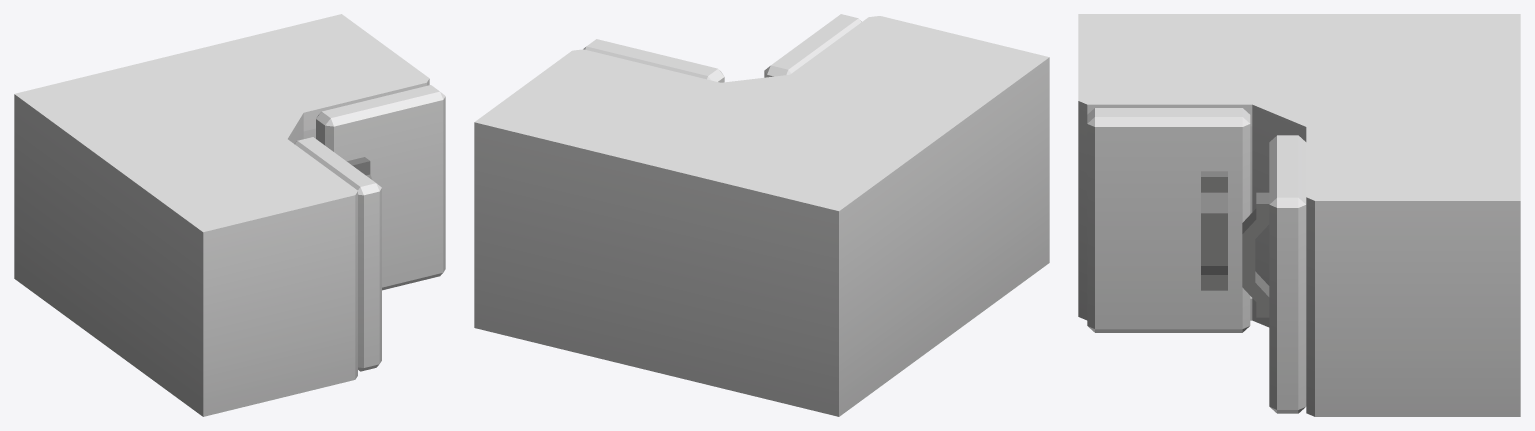
File: Cabinet_01_Corner_C02.fbx
3 views of the same model, side by side, from view 1: azimuth 30°, elevation 25°; view 2: azimuth 150°, elevation 25°; view 3: azimuth 270°, elevation 25° (orthographic). The views are drawn at different scales.
Parts seen in each view (by area): view 1: Cabinet_01_Corner_C02, Cabinet_01_Corner_C02_Door_L, Cabinet_01_Corner_C02_Door_R; view 2: Cabinet_01_Corner_C02, Cabinet_01_Corner_C02_Door_R, Cabinet_01_Corner_C02_Door_L; view 3: Cabinet_01_Corner_C02, Cabinet_01_Corner_C02_Door_R, Cabinet_01_Corner_C02_Door_L.
Part boxes in pixels (x1,y1,x2,y2): Cabinet_01_Corner_C02: (14, 14, 429, 416); Cabinet_01_Corner_C02_Door_L: (316, 85, 445, 290); Cabinet_01_Corner_C02_Door_R: (294, 137, 381, 371); Cabinet_01_Corner_C02: (474, 16, 1049, 416); Cabinet_01_Corner_C02_Door_R: (764, 14, 861, 77); Cabinet_01_Corner_C02_Door_L: (583, 39, 724, 82); Cabinet_01_Corner_C02: (1078, 14, 1520, 416); Cabinet_01_Corner_C02_Door_R: (1087, 108, 1250, 332); Cabinet_01_Corner_C02_Door_L: (1242, 135, 1306, 413).
Size of the model in its own units: 100 by 53.91 by 100.
